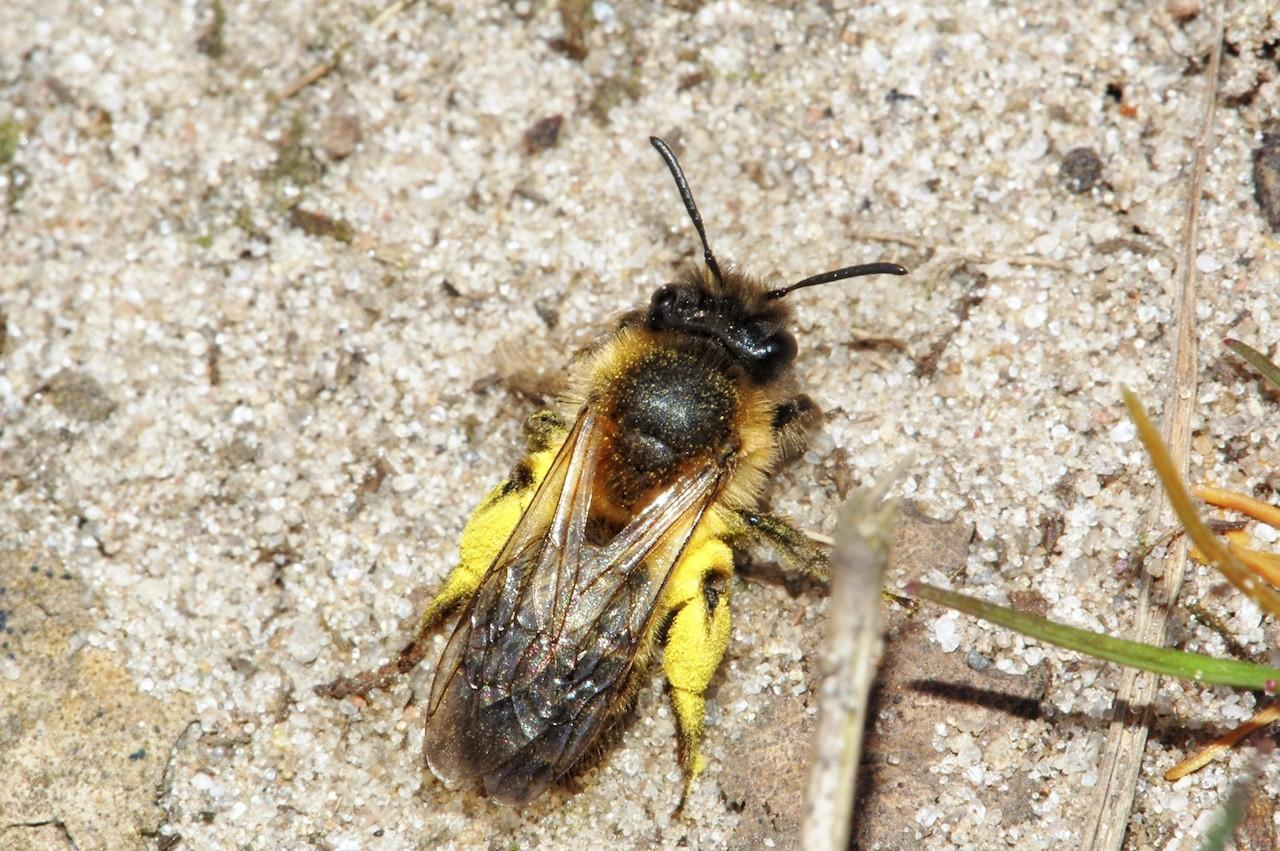Allodapula: (338, 96, 885, 832)
